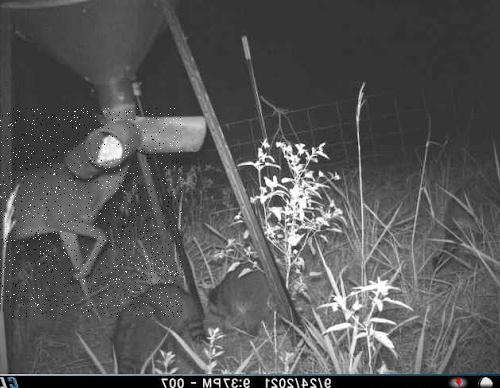Deer: (0, 108, 182, 317)
